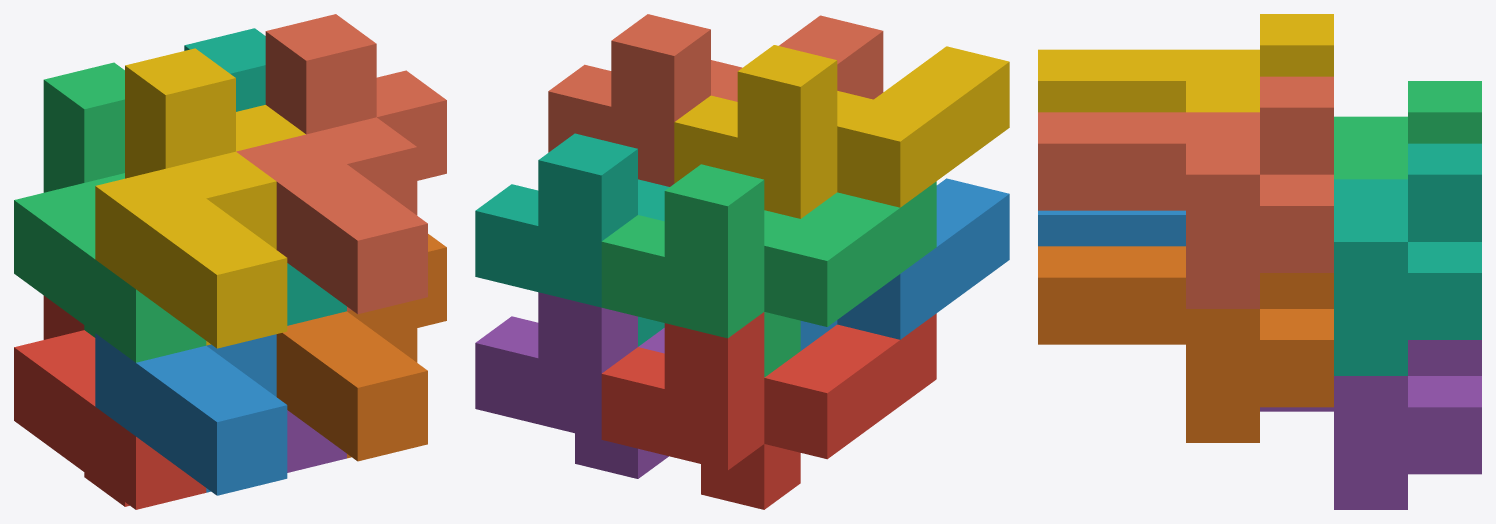
File: tiling.obj
3 views of the same model, side by side, from view 1: azimuth 30°, elevation 25°; view 2: azimuth 150°, elevation 25°; view 3: azimuth 270°, elevation 25° (orthographic). The views are drawn at different scales.
Visible parts, largest first — view 1: copy_1_domain_4, copy_1_domain_8, copy_1_domain_3, copy_1_domain_2, copy_1_domain_6, copy_1_domain_1, copy_1_domain_7, copy_1_domain_5; view 2: copy_1_domain_3, copy_1_domain_1, copy_1_domain_4, copy_1_domain_8, copy_1_domain_7, copy_1_domain_5, copy_1_domain_2; view 3: copy_1_domain_8, copy_1_domain_6, copy_1_domain_7, copy_1_domain_5, copy_1_domain_4, copy_1_domain_3, copy_1_domain_2.
Part boxes in pixels (x1,y1,x2,y2): copy_1_domain_4: (95, 48, 305, 348); copy_1_domain_8: (236, 14, 446, 314); copy_1_domain_3: (14, 62, 206, 362); copy_1_domain_2: (95, 333, 287, 495); copy_1_domain_6: (276, 234, 446, 461); copy_1_domain_1: (14, 295, 206, 509); copy_1_domain_7: (184, 28, 346, 325); copy_1_domain_5: (287, 410, 346, 472); copy_1_domain_3: (601, 164, 936, 377); copy_1_domain_1: (601, 312, 936, 509); copy_1_domain_4: (674, 45, 1009, 218); copy_1_domain_8: (548, 14, 883, 186); copy_1_domain_7: (475, 133, 669, 346); copy_1_domain_5: (475, 292, 668, 478); copy_1_domain_2: (800, 178, 1009, 350); copy_1_domain_8: (1038, 76, 1333, 308); copy_1_domain_6: (1038, 246, 1333, 442); copy_1_domain_7: (1334, 143, 1481, 375); copy_1_domain_5: (1260, 340, 1481, 509); copy_1_domain_4: (1038, 14, 1333, 112); copy_1_domain_3: (1334, 81, 1481, 179); copy_1_domain_2: (1038, 210, 1185, 246).
Bounding box in the file's own units: 5 × 6 × 6.
